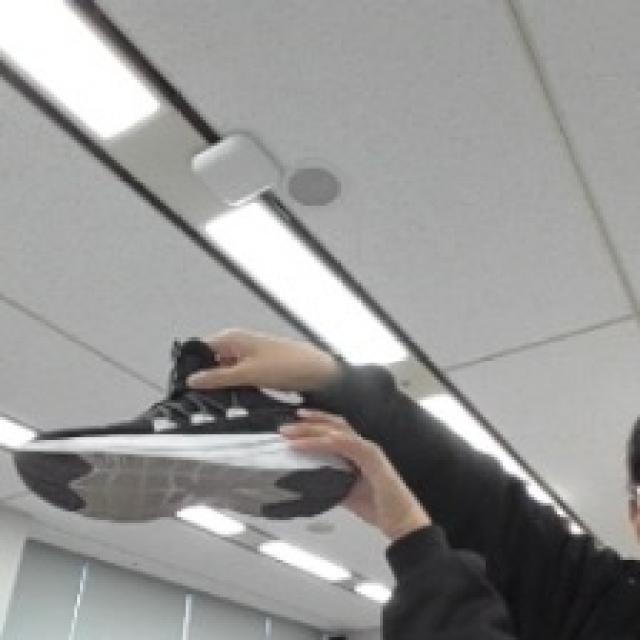shoe: (8, 304, 386, 546)
